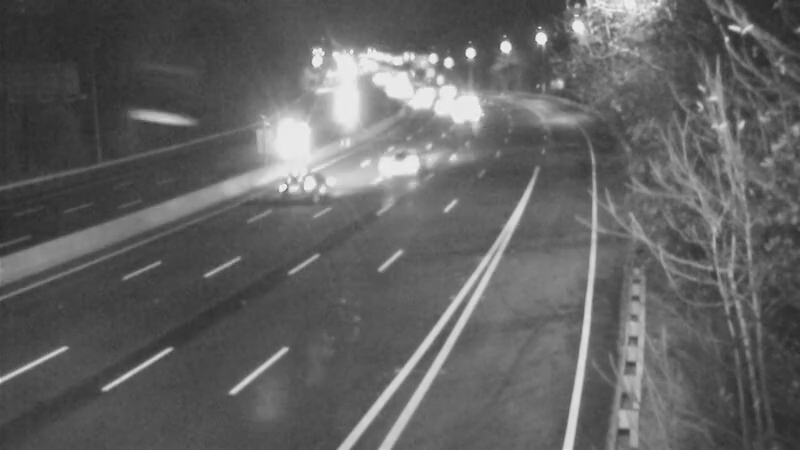vehicle: (359, 125, 439, 205), (251, 146, 331, 226), (418, 65, 468, 115), (400, 66, 450, 116), (441, 74, 491, 124), (395, 78, 445, 128), (421, 82, 471, 132), (442, 88, 492, 138), (268, 106, 318, 156)
